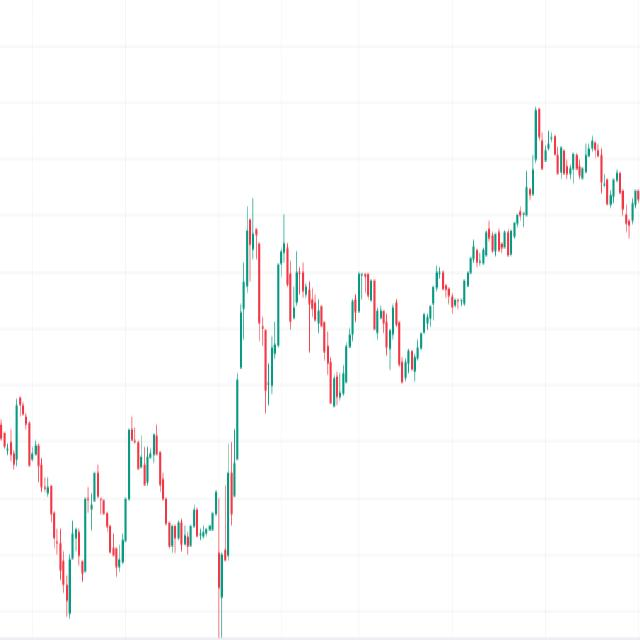Triple-Top: (230, 221, 420, 410)
